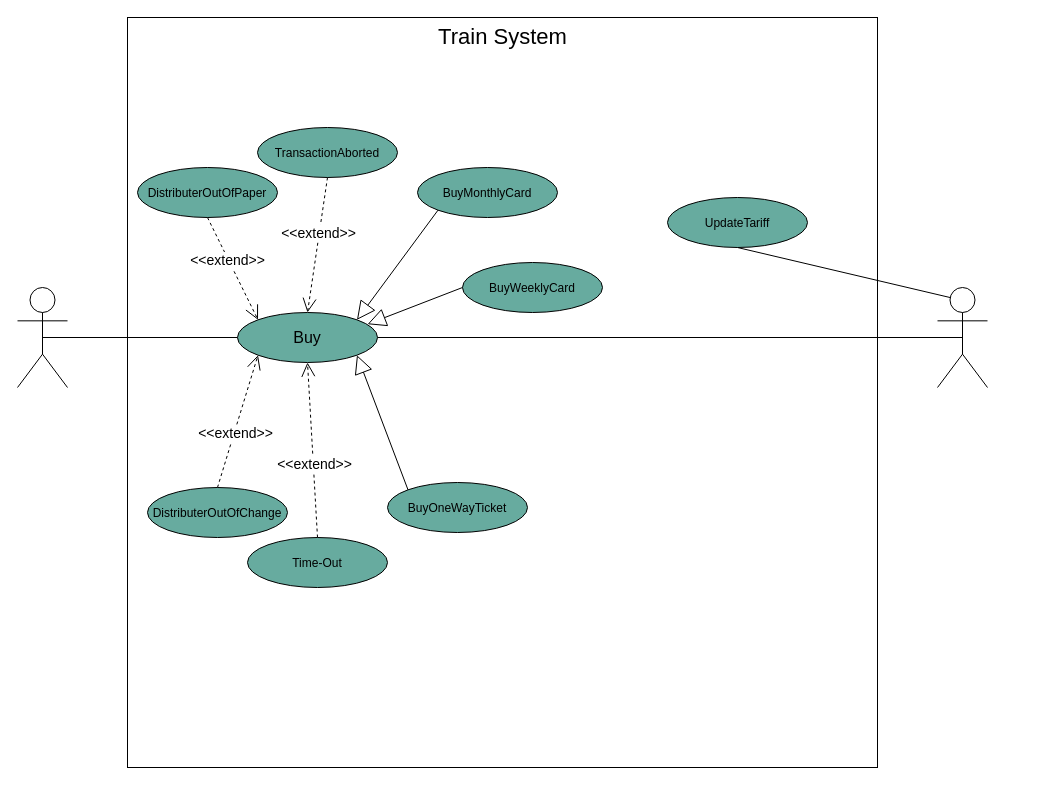
The diagram is 1049 pixels wide and 785 high, and some of its shapes have lost their labels. The shapes that lost their labels are listed below. From the top down, each one's centre as x and y in pixels, then its label:
pixel 42 337: Traveler
pixel 962 337: Central Computer System
